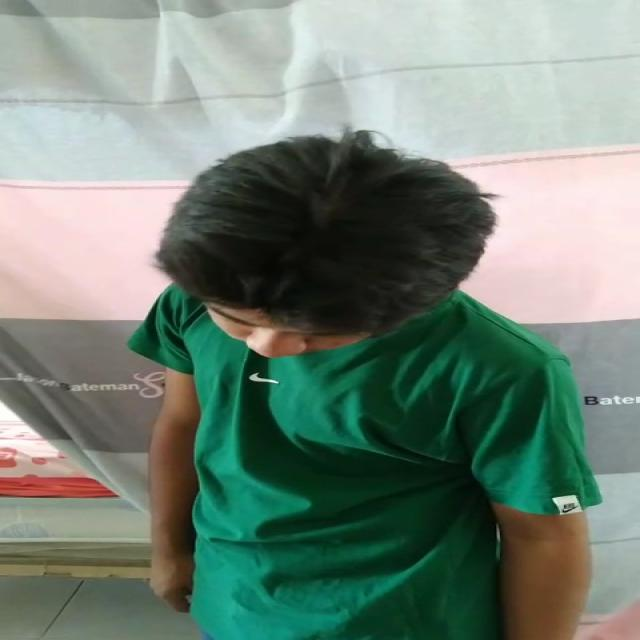9_cabeza_baja: (160, 125, 500, 358)
